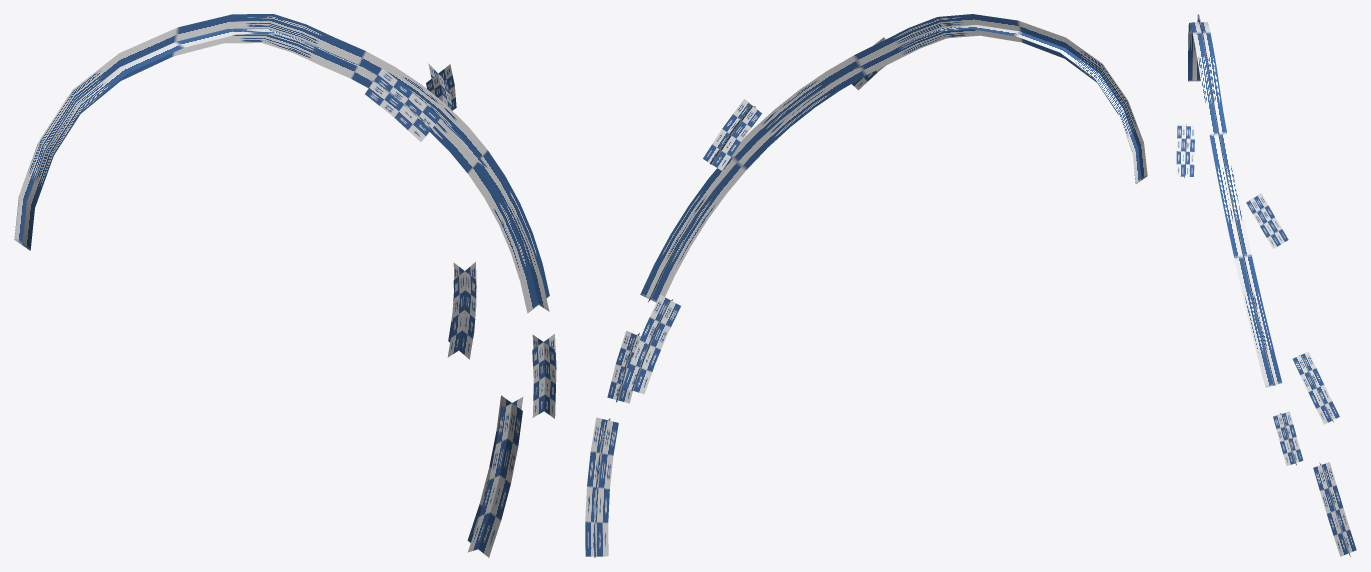
The model's file is Spark2.fbx.
3 renders of one model, left to right at view 1: azimuth 30°, elevation 25°; view 2: azimuth 150°, elevation 25°; view 3: azimuth 270°, elevation 25°, orthographic. The views are drawn at different scales.
Parts seen in each view (by area): view 1: SM_e_Useful_Spark002; view 2: SM_e_Useful_Spark002; view 3: SM_e_Useful_Spark002.
Part boxes in pixels (x1=…): SM_e_Useful_Spark002: x1=14, y1=14, x2=556, y2=557; SM_e_Useful_Spark002: x1=585, y1=14, x2=1147, y2=557; SM_e_Useful_Spark002: x1=1176, y1=14, x2=1356, y2=556.
Size of the model in its own units: 160 by 177 by 70.2.
